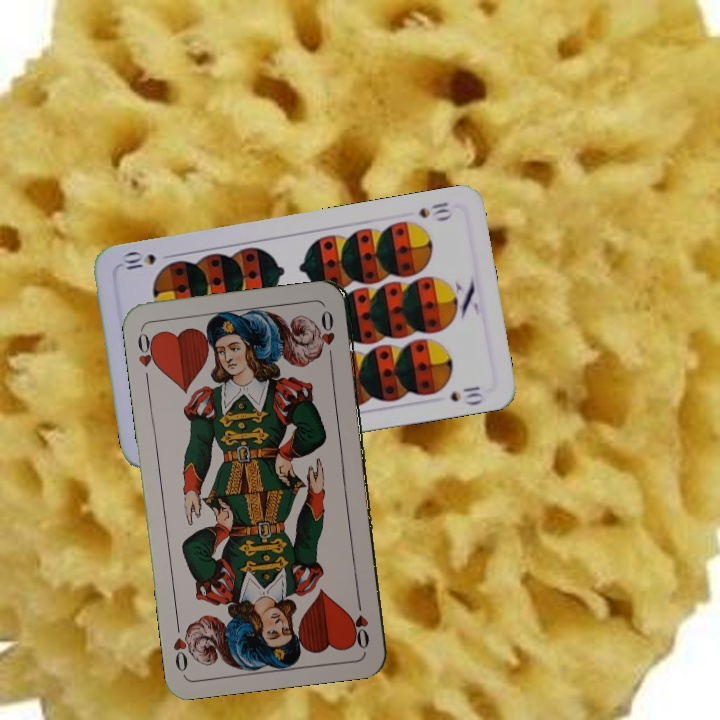HO: (134, 327, 161, 386), (352, 593, 372, 652)
S10: (414, 198, 455, 223)
